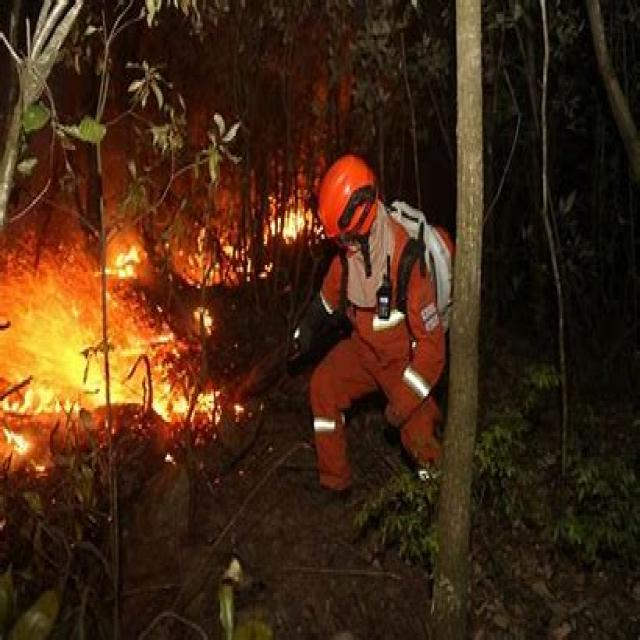fire: (0, 244, 235, 468), (104, 201, 312, 292)
